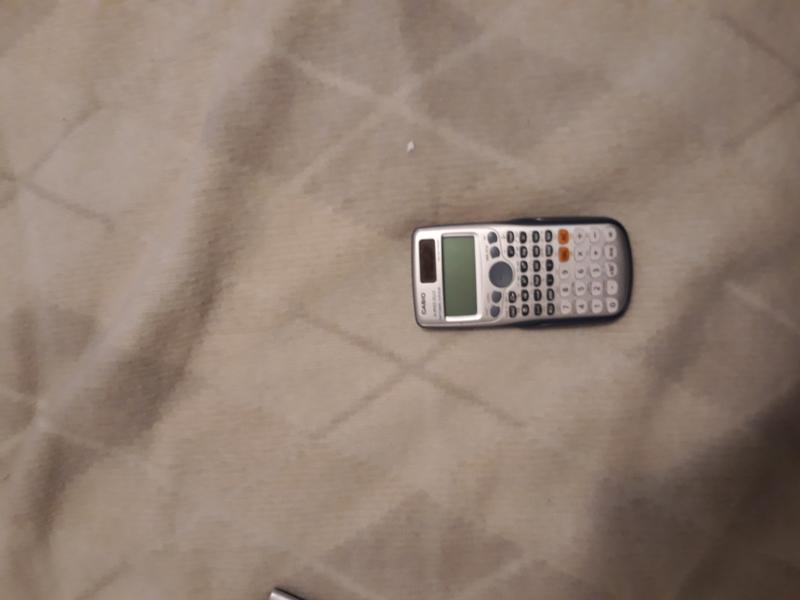CASIO_fx_991ES_PLUS: (403, 222, 640, 328)
